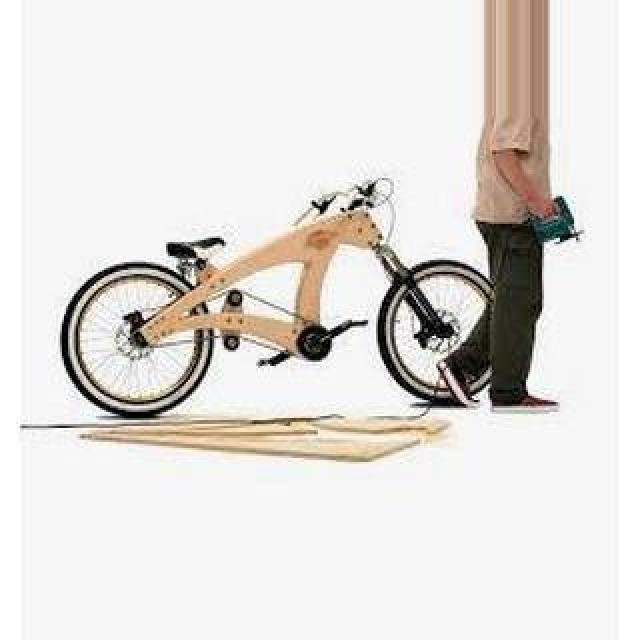MC-Bike: (468, 100, 574, 408)
Person: (62, 181, 508, 423)
